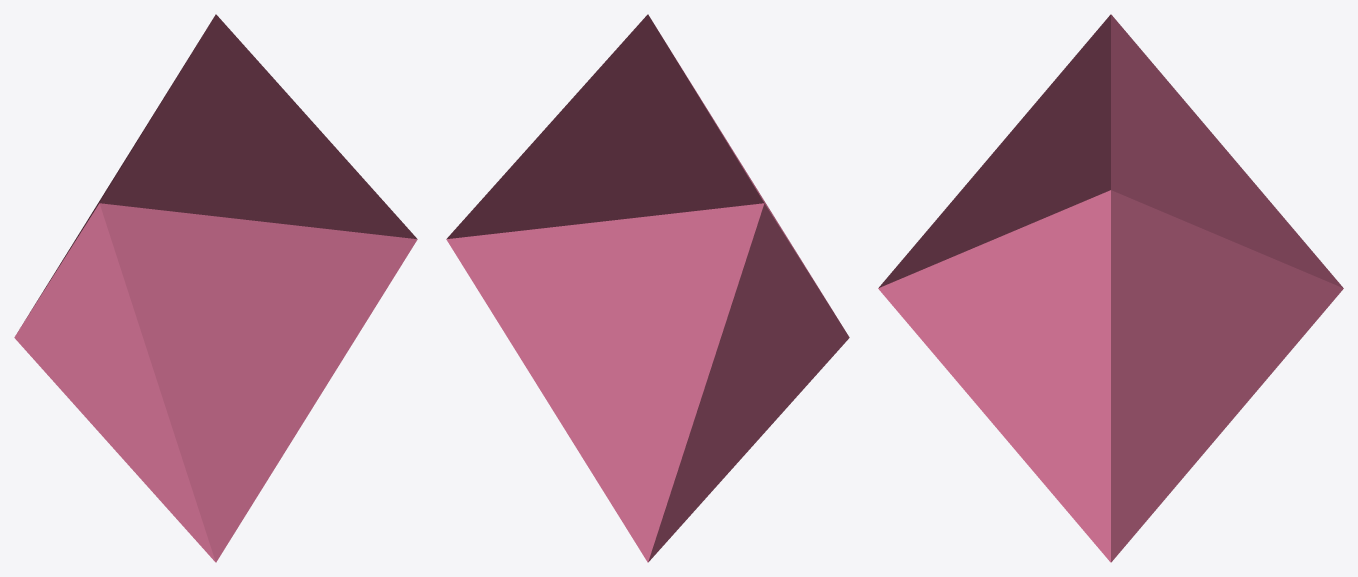
The model's file is kiss.glb.
3 renders of one model, left to right at view 1: azimuth 30°, elevation 25°; view 2: azimuth 150°, elevation 25°; view 3: azimuth 270°, elevation 25°, orthographic.
Size of the model in its own units: 2 by 2.6 by 2.
